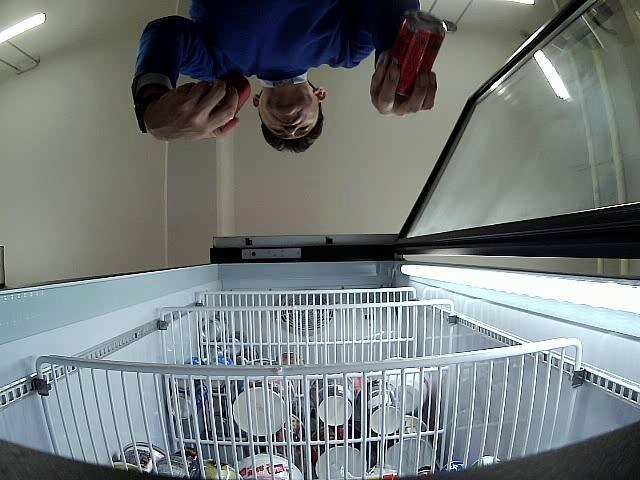11_cocaColaZero: (390, 12, 447, 96), (214, 73, 252, 136)
